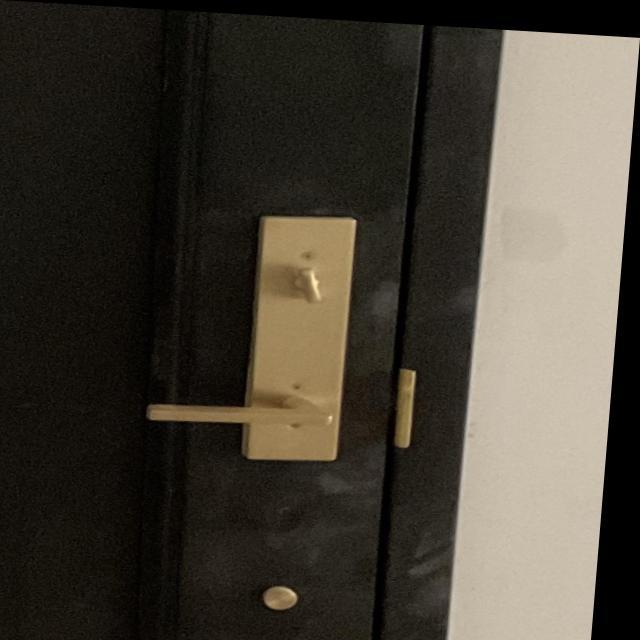door_handle: (142, 362, 382, 457)
